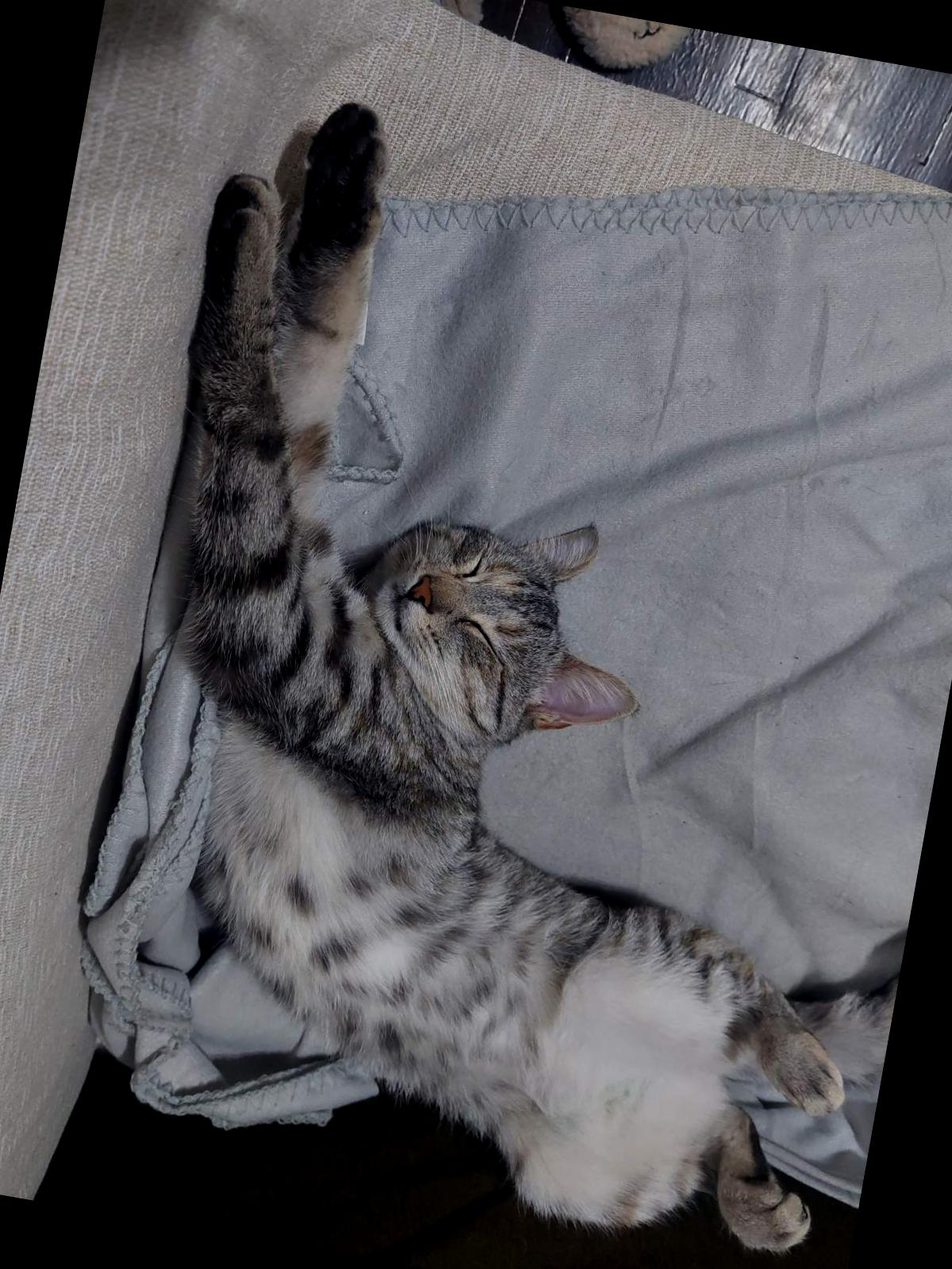macka: (52, 83, 952, 1259)
